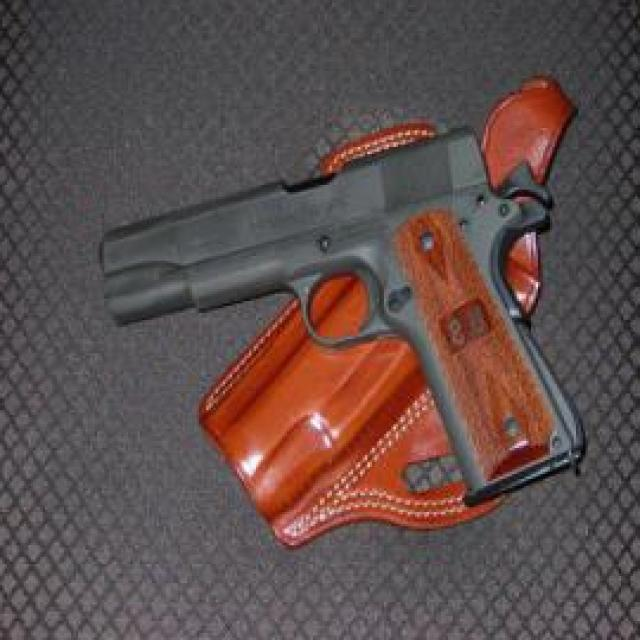pistol: (95, 119, 592, 500)
